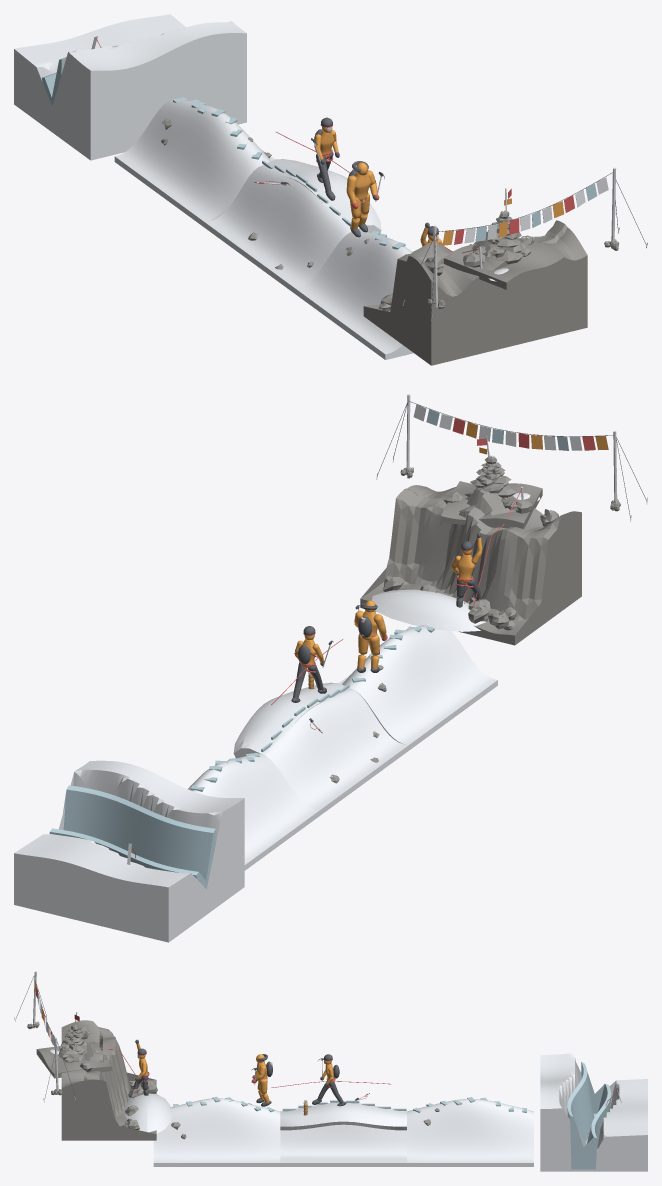
The model's file is mountaineering-and-summit-expedition-summit-ridge-ff7f61f9__18833.glb.
3 renders of one model, top to bottom at view 1: azimuth 30°, elevation 25°; view 2: azimuth 150°, elevation 25°; view 3: azimuth 270°, elevation 25°, orthographic. The views are drawn at different scales.
Visible parts, largest first — view 1: 000-bergschrund-lip/0, 004-rock-band-step/0, 002-corniced-ridge-module/0, 001-snow-ridge-module/0, 003-snow-ridge-module/0, 005-summit-cairn/0, 007-climber-in-down-suit-with-oxygen/0, 006-prayer-flag-line/0, 008-roped-glacier-team-member/2, 008-roped-glacier-team-member/0; view 2: 000-bergschrund-lip/0, 004-rock-band-step/0, 002-corniced-ridge-module/0, 003-snow-ridge-module/0, 000-bergschrund-lip/1, 001-snow-ridge-module/0, 004-rock-band-step/1, 005-summit-cairn/0, 007-climber-in-down-suit-with-oxygen/0, 006-prayer-flag-line/0, 008-roped-glacier-team-member/2; view 3: 000-bergschrund-lip/0, 001-snow-ridge-module/0, 002-corniced-ridge-module/0, 003-snow-ridge-module/0, 004-rock-band-step/0, 000-bergschrund-lip/1, 005-summit-cairn/0, 004-rock-band-step/1, 007-climber-in-down-suit-with-oxygen/0, 008-roped-glacier-team-member/2, 006-prayer-flag-line/0.
Part boxes in pixels (bbox=[...]): 000-bergschrund-lip/0: bbox=[14, 14, 246, 160]; 004-rock-band-step/0: bbox=[363, 220, 587, 365]; 002-corniced-ridge-module/0: bbox=[205, 159, 381, 293]; 001-snow-ridge-module/0: bbox=[114, 98, 274, 227]; 003-snow-ridge-module/0: bbox=[295, 232, 413, 359]; 005-summit-cairn/0: bbox=[443, 210, 564, 289]; 007-climber-in-down-suit-with-oxygen/0: bbox=[346, 162, 377, 229]; 006-prayer-flag-line/0: bbox=[402, 167, 647, 320]; 008-roped-glacier-team-member/2: bbox=[311, 117, 339, 200]; 008-roped-glacier-team-member/0: bbox=[315, 127, 338, 159]; 000-bergschrund-lip/0: bbox=[14, 760, 244, 942]; 004-rock-band-step/0: bbox=[360, 485, 581, 645]; 002-corniced-ridge-module/0: bbox=[233, 682, 408, 816]; 003-snow-ridge-module/0: bbox=[339, 625, 497, 750]; 000-bergschrund-lip/1: bbox=[49, 785, 215, 888]; 001-snow-ridge-module/0: bbox=[188, 753, 318, 870]; 004-rock-band-step/1: bbox=[372, 589, 485, 631]; 005-summit-cairn/0: bbox=[441, 455, 542, 528]; 007-climber-in-down-suit-with-oxygen/0: bbox=[354, 600, 386, 669]; 006-prayer-flag-line/0: bbox=[376, 394, 647, 521]; 008-roped-glacier-team-member/2: bbox=[291, 626, 333, 702]; 000-bergschrund-lip/0: bbox=[540, 1053, 647, 1171]; 001-snow-ridge-module/0: bbox=[407, 1099, 533, 1166]; 002-corniced-ridge-module/0: bbox=[280, 1102, 406, 1166]; 003-snow-ridge-module/0: bbox=[153, 1098, 280, 1166]; 004-rock-band-step/0: bbox=[61, 1020, 157, 1140]; 000-bergschrund-lip/1: bbox=[567, 1062, 611, 1169]; 005-summit-cairn/0: bbox=[36, 1024, 111, 1078]; 004-rock-band-step/1: bbox=[124, 1093, 172, 1133]; 007-climber-in-down-suit-with-oxygen/0: bbox=[254, 1054, 269, 1103]; 008-roped-glacier-team-member/2: bbox=[312, 1054, 346, 1106]; 006-prayer-flag-line/0: bbox=[14, 971, 75, 1102].
Bounding box in the file's own units: 6.21 × 4.99 × 20.
